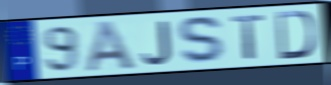9: (42, 25, 81, 73)
A: (84, 19, 138, 74)
D: (275, 9, 317, 61)
J: (140, 19, 173, 66)
S: (176, 15, 229, 66)
T: (230, 13, 267, 61)
